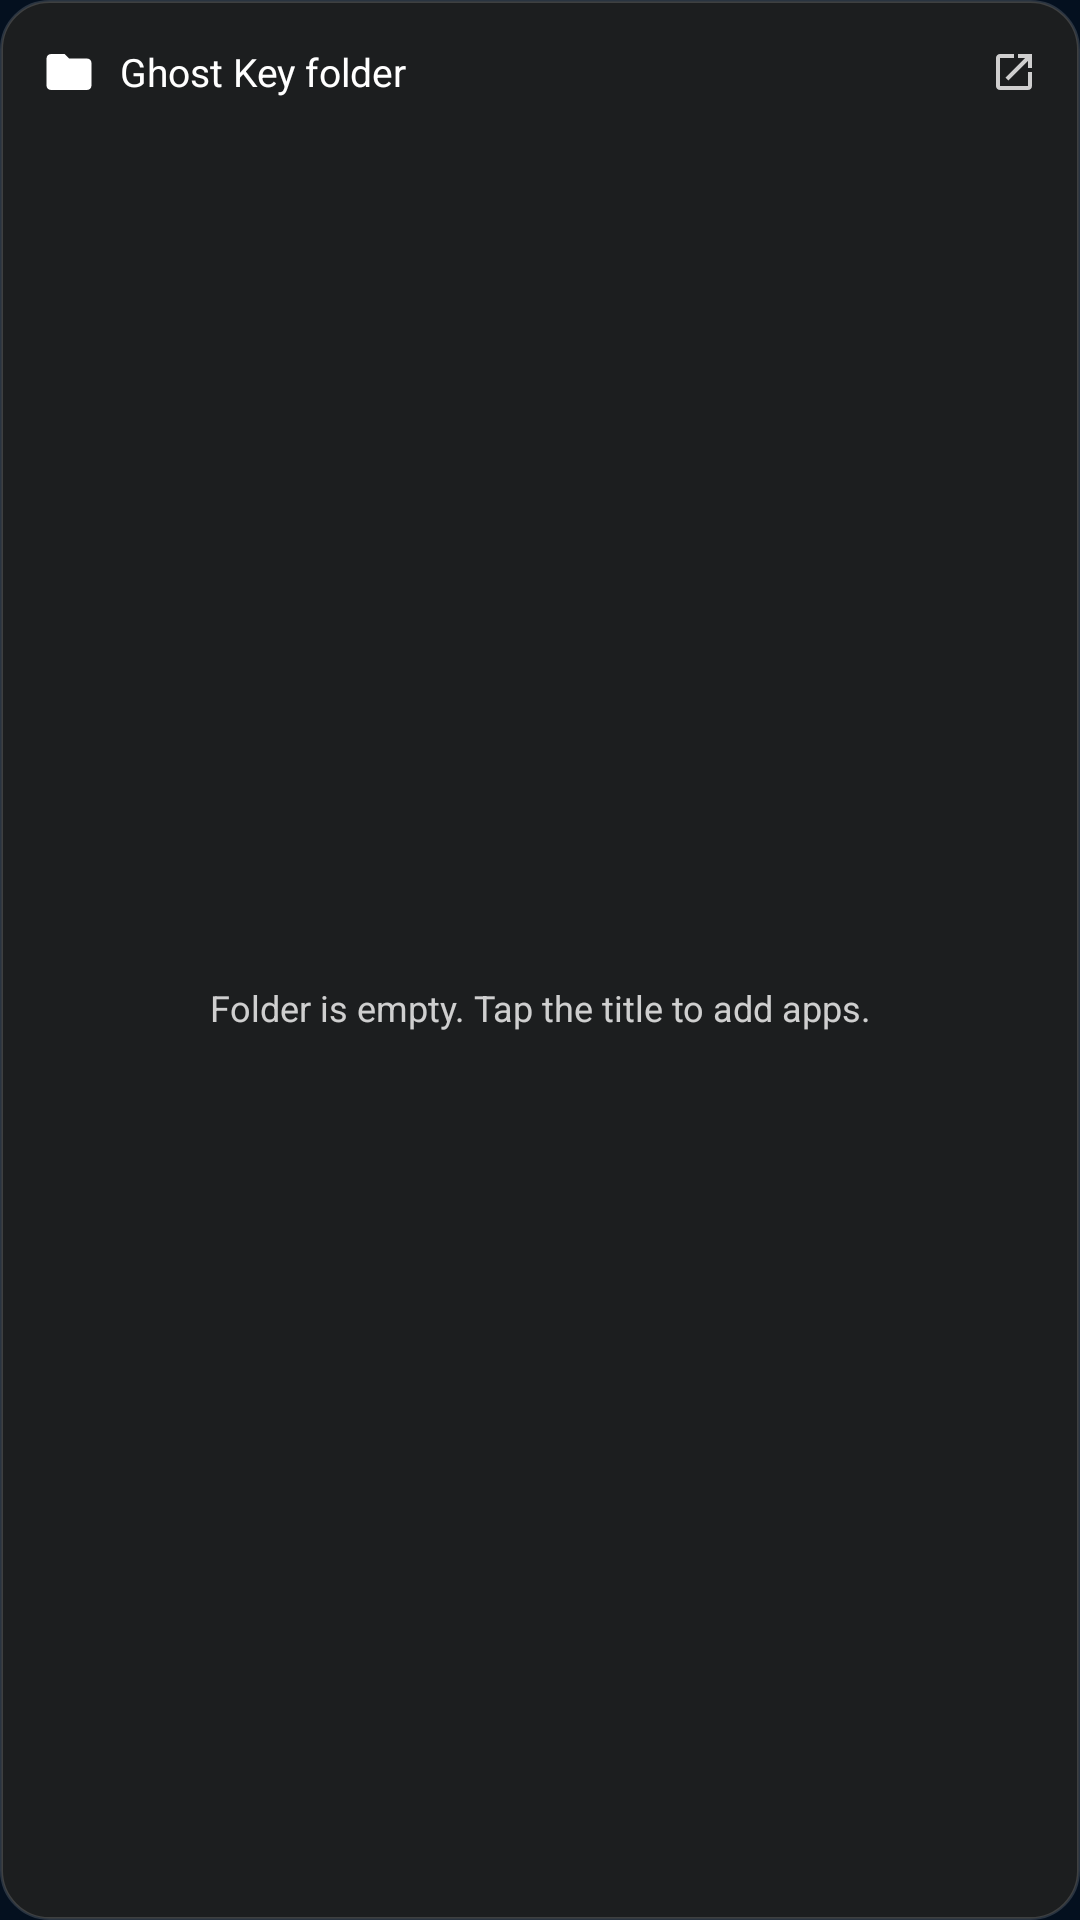

Point at icon controls on the screen. Image size 1080px x 1920px, points as point (x, y).
folder glyph: point (69, 72)
open glyph: point (1014, 72)
